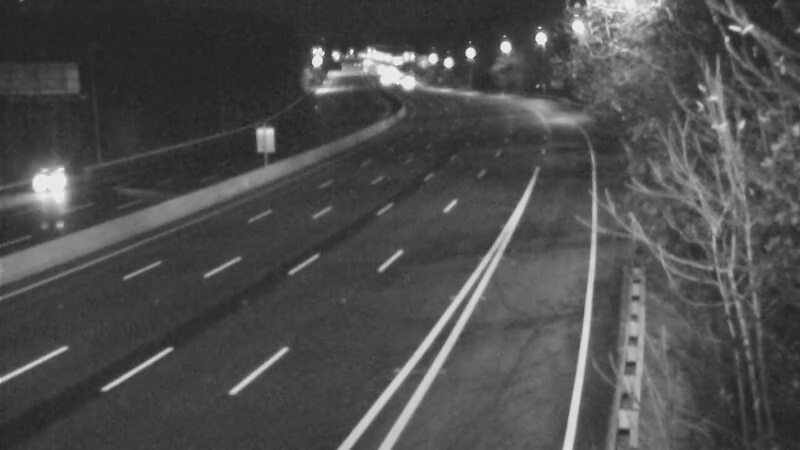vehicle: (9, 140, 89, 220), (378, 58, 428, 108)
